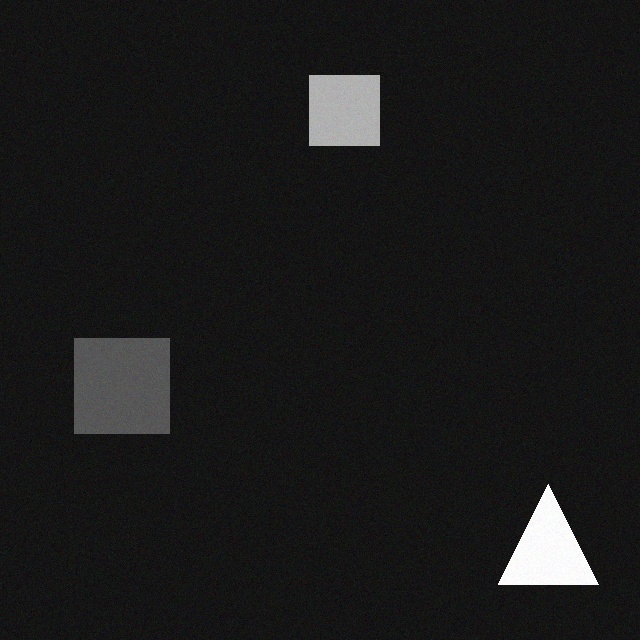square: (65, 350, 160, 445), (300, 87, 370, 157)
triangle: (489, 496, 589, 596)
